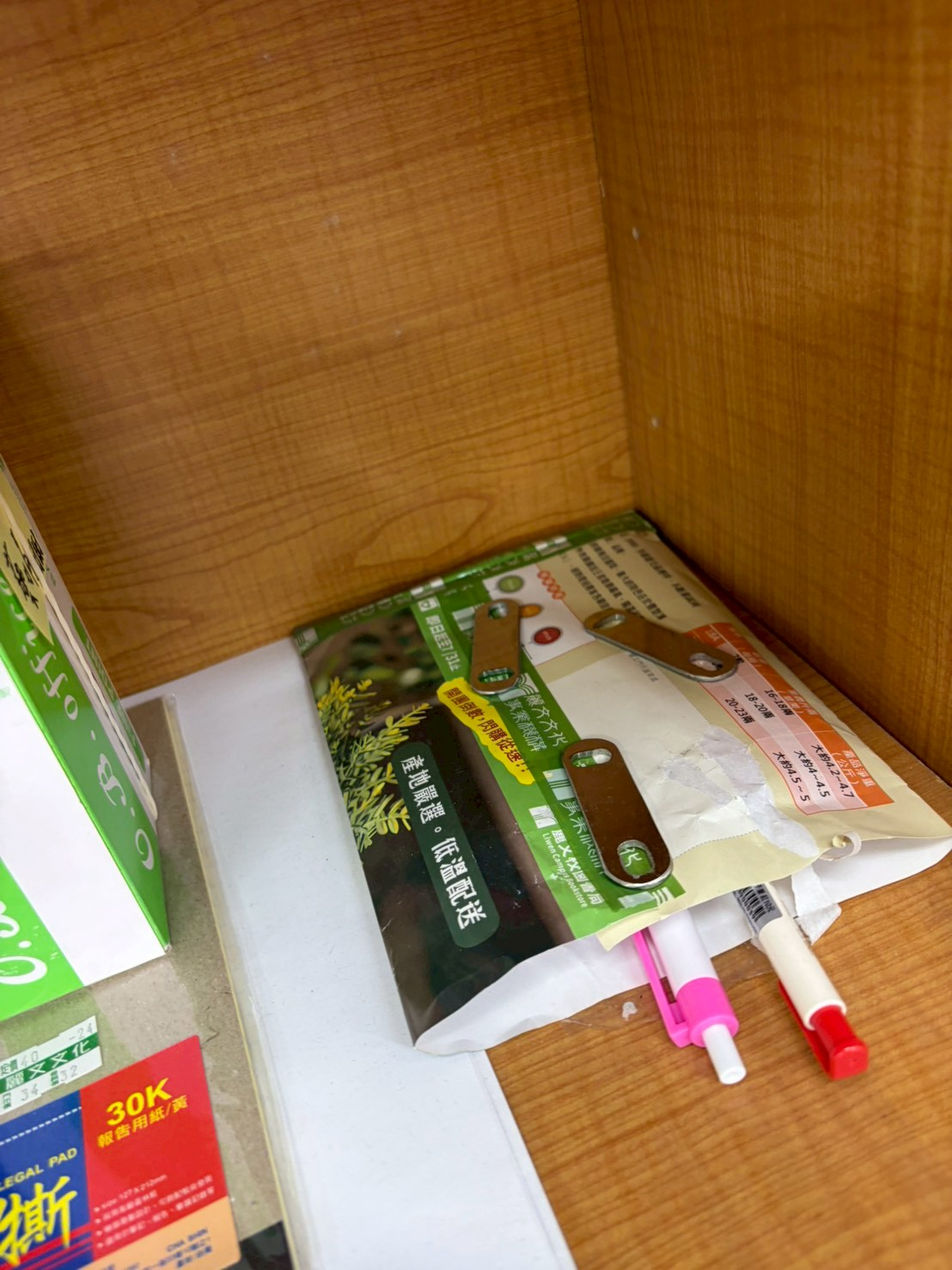Fe: (536, 728, 671, 891), (575, 588, 735, 687), (450, 585, 526, 691)
